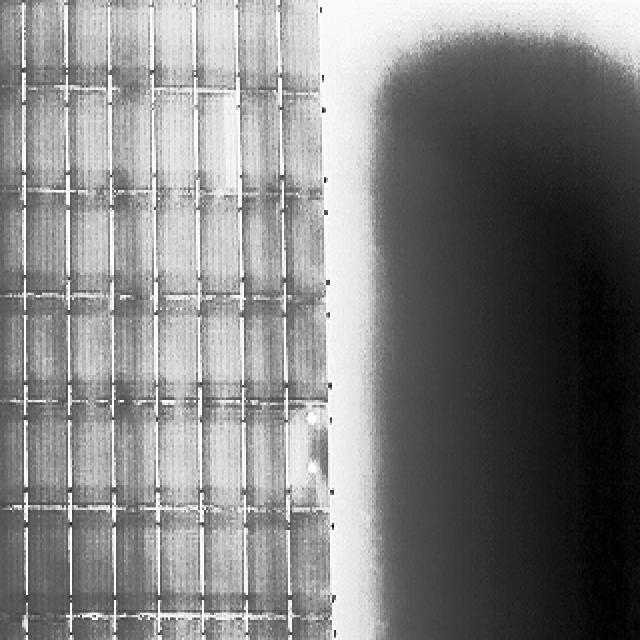Hotspots: (298, 408, 325, 428), (307, 458, 319, 477)
PV-modules: (28, 508, 75, 620), (241, 403, 289, 511), (110, 510, 157, 620), (68, 403, 114, 510), (157, 299, 202, 408), (69, 509, 114, 618), (28, 400, 73, 508), (286, 509, 330, 619), (200, 508, 244, 618), (66, 195, 111, 302), (159, 509, 203, 618), (242, 511, 286, 620), (27, 296, 72, 402), (199, 297, 243, 404), (25, 88, 70, 192), (158, 402, 202, 508), (113, 405, 157, 511), (200, 406, 244, 512), (238, 94, 282, 200), (283, 198, 327, 304), (111, 194, 155, 300), (238, 296, 282, 402), (285, 407, 329, 513), (157, 189, 200, 297), (65, 89, 110, 192), (68, 297, 112, 402), (25, 190, 69, 295), (113, 297, 157, 402), (242, 193, 286, 298), (198, 192, 242, 296), (196, 92, 240, 196), (284, 304, 327, 409), (151, 90, 195, 192), (109, 90, 153, 192), (280, 96, 322, 202), (278, 2, 322, 96), (108, 2, 153, 93), (237, 1, 280, 95), (24, 0, 68, 88), (150, 2, 193, 92), (194, 2, 236, 94), (65, 2, 107, 91), (0, 508, 26, 618), (0, 297, 24, 405), (0, 397, 24, 505), (0, 187, 22, 295), (0, 88, 22, 192), (0, 0, 24, 85), (200, 615, 246, 640), (68, 617, 114, 640), (288, 617, 330, 640), (28, 620, 74, 640), (244, 620, 288, 640), (160, 620, 204, 640), (110, 620, 154, 640), (0, 615, 26, 640)
